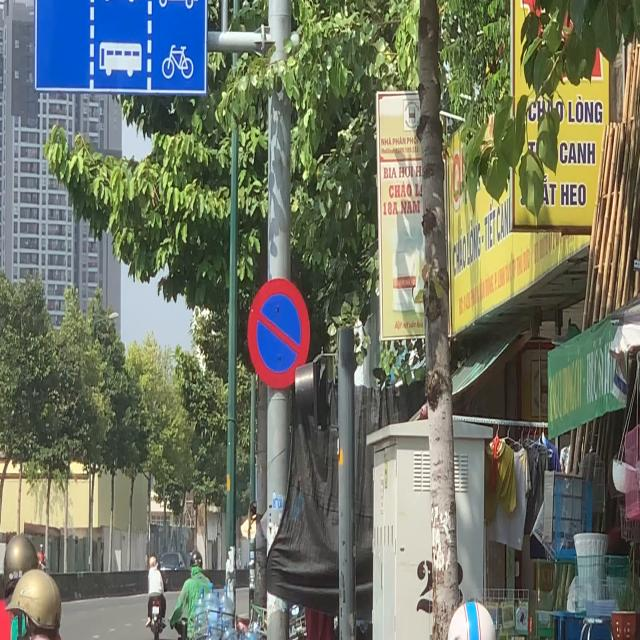Cam do: (243, 272, 313, 402)
